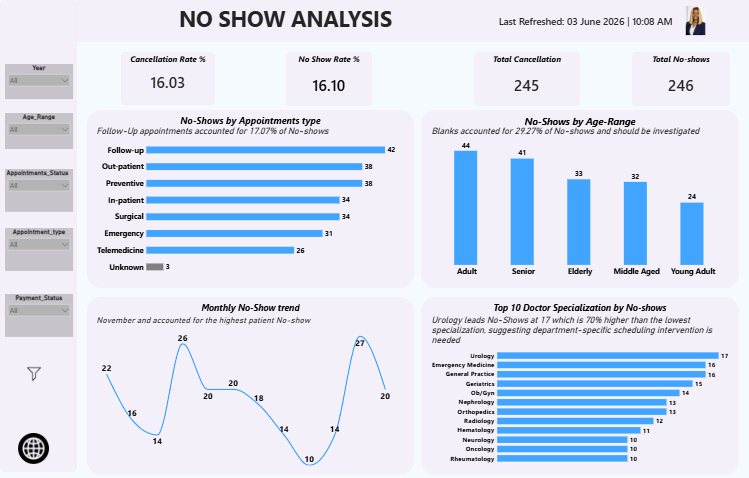

This screenshot's page, from the dashboard's own definition file:
{"tool":"powerbi","page":{"name":"Page 2","canvas":[2500,1600],"ordinal":1},"visuals":[{"type":"shape","box":[290,993.3,1090,593.3],"z":0},{"type":"shape","box":[1403.3,993.3,1060,593.3],"z":1000},{"type":"shape","box":[290,370,1090,593.3],"z":2000},{"type":"shape","box":[1403.3,370,1060,593.3],"z":3000},{"type":"clusteredBarChart","title":"Follow-Up appointments accounted for 17.07% of No-shows","fields":{"Y":["Measures table.No show"],"Category":["New healthcare.Appointment_type"]},"box":[316.7,423.3,1006.7,510],"z":4000},{"type":"clusteredColumnChart","title":"Blanks accounted for 29.27% of No-shows and should be investigated","fields":{"Category":["New healthcare.Age_Range"],"Y":["Measures table.No show"]},"box":[1433.3,423.3,1000,510],"z":5000},{"type":"clusteredBarChart","title":"Urology leads No-Shows at 17 which is 70% higher than the lowest specialization, suggesting department-specific scheduling intervention is needed","fields":{"Category":["New healthcare.DOCTOR_SPECIALIZATION"],"Y":["Measures table.No show"]},"box":[1433.3,1053.3,1000,506.7],"z":6000},{"type":"lineChart","title":"November and accounted for the highest patient No-show","fields":{"Category":["Date.Month"],"Y":["Measures table.No show"]},"box":[316.7,1053.3,1006.7,506.7],"z":7000},{"type":"shape","box":[2106.7,176.7,326.7,180],"z":8000},{"type":"shape","box":[1580,176.7,353.3,180],"z":9000},{"type":"shape","box":[0,0,256.7,1576.7],"z":10000},{"type":"shape","box":[256.7,0,2243.3,143.3],"z":11000},{"type":"cardVisual","fields":{"Data":["Measures table.No show"]},"box":[2183.3,226.7,170,113.3],"z":12000},{"type":"cardVisual","fields":{"Data":["Measures table.Cancellation"]},"box":[1623.3,226.7,263.3,113.3],"z":13000},{"type":"shape","box":[953.3,176.7,286.7,180],"z":14000},{"type":"shape","box":[403.3,176.7,313.3,176.7],"z":15000},{"type":"cardVisual","fields":{"Data":["Measures table.No Show Rate 1"]},"box":[1003.3,236.7,186.7,96.7],"z":16000},{"type":"cardVisual","fields":{"Data":["Measures table.Cancellation rate"]},"box":[443.3,216.7,233.3,116.7],"z":17000},{"type":"slicer","title":"Year","fields":{"Values":["Date.Year"]},"box":[16.7,216.7,226.7,116.7],"z":18000},{"type":"slicer","title":"Age_Range","fields":{"Values":["New healthcare.Age_Range"]},"box":[16.7,380,226.7,120],"z":19000},{"type":"slicer","title":"Appointments_Status","fields":{"Values":["New healthcare.Appointment_Status"]},"box":[16.7,566.7,226.7,143.3],"z":20000},{"type":"slicer","title":"Appointment_type","fields":{"Values":["New healthcare.Appointment_type"]},"box":[16.7,763.3,226.7,143.3],"z":21000},{"type":"slicer","title":"Payment_Status","fields":{"Values":["New healthcare.Payment_Status"]},"box":[16.7,983.3,226.7,143.3],"z":22000},{"type":"image","box":[60,1206.7,106.7,86.7],"z":23000},{"type":"image","box":[53.3,1446.7,116.7,103.3],"z":24000},{"type":"cardVisual","fields":{"Data":["Measures table.Last Refreshed"]},"box":[1633.3,33.3,660,76.7],"z":25000},{"type":"image","box":[2270,23.3,96.7,96.7],"z":26000},{"type":"textbox","box":[540,10,823.3,126.7],"z":27000}]}

Visuals, with their boxes in screenshot pixels (x1, y1, x2, y2), scaled from the page's 2500x1600 canvas onto the 749x478 screenshot:
shape: [x1=87, y1=297, x2=413, y2=474]
shape: [x1=420, y1=297, x2=738, y2=474]
shape: [x1=87, y1=111, x2=413, y2=288]
shape: [x1=420, y1=111, x2=738, y2=288]
"Follow-Up appointments accounted for 17.07% of No-shows" clusteredBarChart: [x1=95, y1=126, x2=396, y2=279]
"Blanks accounted for 29.27% of No-shows and should be investigated" clusteredColumnChart: [x1=429, y1=126, x2=729, y2=279]
"Urology leads No-Shows at 17 which is 70% higher than the lowest specialization, suggesting department-specific scheduling intervention is needed" clusteredBarChart: [x1=429, y1=315, x2=729, y2=466]
"November and accounted for the highest patient No-show" lineChart: [x1=95, y1=315, x2=396, y2=466]
shape: [x1=631, y1=53, x2=729, y2=107]
shape: [x1=473, y1=53, x2=579, y2=107]
shape: [x1=0, y1=0, x2=77, y2=471]
shape: [x1=77, y1=0, x2=748, y2=43]
cardVisual - Measures table.No show: [x1=654, y1=68, x2=705, y2=102]
cardVisual - Measures table.Cancellation: [x1=486, y1=68, x2=565, y2=102]
shape: [x1=286, y1=53, x2=372, y2=107]
shape: [x1=121, y1=53, x2=215, y2=106]
cardVisual - Measures table.No Show Rate 1: [x1=301, y1=71, x2=357, y2=100]
cardVisual - Measures table.Cancellation rate: [x1=133, y1=65, x2=203, y2=100]
"Year" slicer: [x1=5, y1=65, x2=73, y2=100]
"Age_Range" slicer: [x1=5, y1=114, x2=73, y2=149]
"Appointments_Status" slicer: [x1=5, y1=169, x2=73, y2=212]
"Appointment_type" slicer: [x1=5, y1=228, x2=73, y2=271]
"Payment_Status" slicer: [x1=5, y1=294, x2=73, y2=337]
image: [x1=18, y1=361, x2=50, y2=386]
image: [x1=16, y1=432, x2=51, y2=463]
cardVisual - Measures table.Last Refreshed: [x1=489, y1=10, x2=687, y2=33]
image: [x1=680, y1=7, x2=709, y2=36]
textbox: [x1=162, y1=3, x2=408, y2=41]
